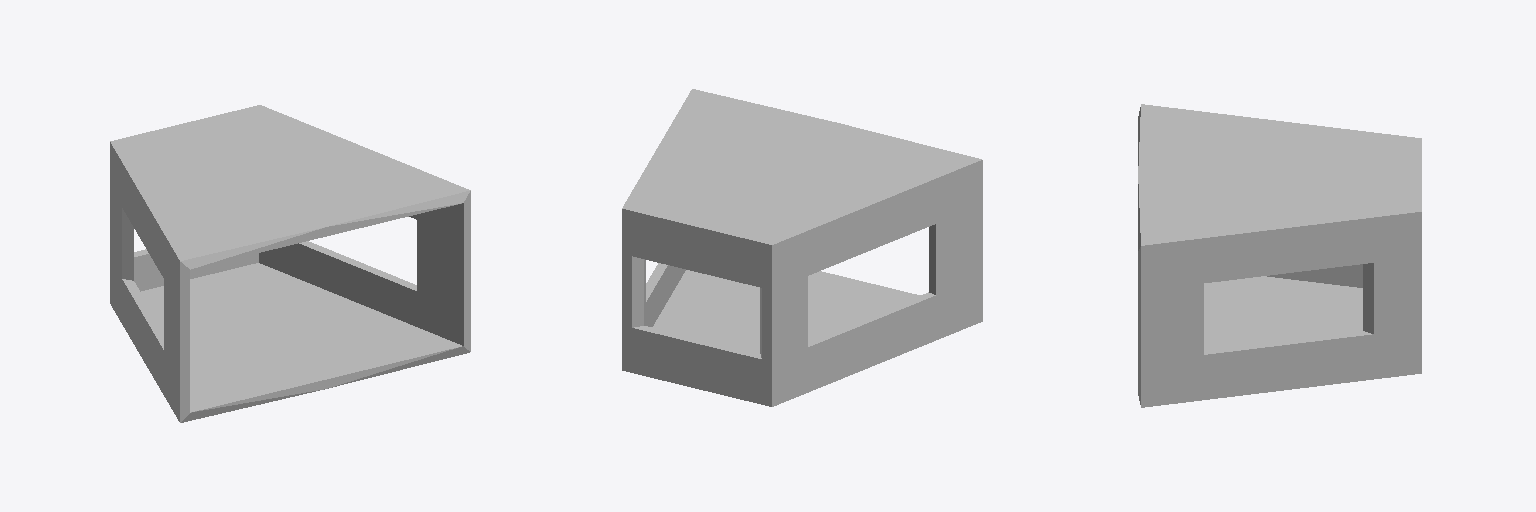
Rendered from observatory.obj.
The picture shows the model from 3 angles: view 1: azimuth 30°, elevation 25°; view 2: azimuth 150°, elevation 25°; view 3: azimuth 270°, elevation 25°; orthographic projection.
Parts seen in each view (by area): view 1: observatory_windows ship_v4 ship; view 2: observatory_windows ship_v4 ship; view 3: observatory_windows ship_v4 ship.
Boxes of the visible parts, <box> form: observatory_windows ship_v4 ship: <box>110,105,470,422</box>; observatory_windows ship_v4 ship: <box>622,89,982,406</box>; observatory_windows ship_v4 ship: <box>1138,104,1421,407</box>.
Size of the model in its own units: 12.77 by 6.8 by 10.79.